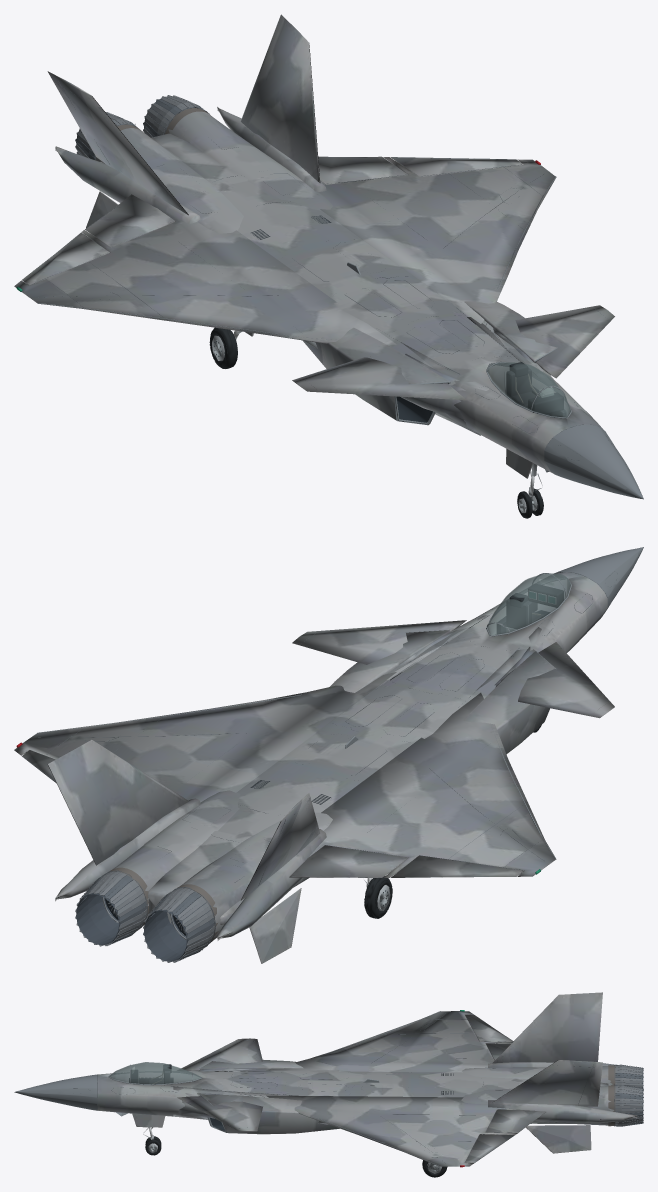
File: j20-preview.glb
3 views of the same model, one above another, from view 1: azimuth 30°, elevation 25°; view 2: azimuth 150°, elevation 25°; view 3: azimuth 270°, elevation 25° (orthographic). The views are drawn at different scales.
Parts seen in each view (by area): view 1: J20 | J20 • Cool gray polygon camouflage | mobile, J20 | J20 • Smoked gold blue canopy | mobile, J20 | J20 • Radome side facet variation | mobile, J20 | J20 • Radar nose dielectric gray | mobile, J20 | J20 • Recessed panel shadow | mobile, J20 | J20 • Edge coating | mobile, J20 | J20 • Titanium nozzle petals | mobile, J20 | J20 • Tire rubber | mobile, J20 | J20 • Cockpit charcoal upholstery | mobile, J20 | J20 • Duct and exhaust interior | mobile, J20 | J20 • Canopy seals | mobile, J20 | J20 • Heat discolored nozzle petals | mobile; view 2: J20 | J20 • Cool gray polygon camouflage | mobile, J20 | J20 • Dark heat treated liner | mobile, J20 | J20 • Titanium nozzle petals | mobile, J20 | J20 • Smoked gold blue canopy | mobile, J20 | J20 • Heat discolored nozzle petals | mobile, J20 | J20 • Recessed panel shadow | mobile, J20 | J20 • Radar nose dielectric gray | mobile, J20 | J20 • Edge coating | mobile, J20 | J20 • Cockpit charcoal upholstery | mobile, J20 | J20 • Radome side facet variation | mobile, J20 | J20 • Tire rubber | mobile, J20 | J20 • Oxidized titanium collar | mobile (+1 smaller); view 3: J20 | J20 • Cool gray polygon camouflage | mobile, J20 | J20 • Smoked gold blue canopy | mobile, J20 | J20 • Titanium nozzle petals | mobile, J20 | J20 • Radome side facet variation | mobile, J20 | J20 • Edge coating | mobile, J20 | J20 • Recessed panel shadow | mobile, J20 | J20 • Radar nose dielectric gray | mobile, J20 | J20 • Heat discolored nozzle petals | mobile, J20 | J20 • Tire rubber | mobile, J20 | J20 • Oxidized titanium collar | mobile.
Part boxes in pixels (x1=…): J20 | J20 • Cool gray polygon camouflage | mobile: x1=14, y1=14, x2=614, y2=478; J20 | J20 • Smoked gold blue canopy | mobile: x1=487, y1=362, x2=570, y2=417; J20 | J20 • Radome side facet variation | mobile: x1=544, y1=427, x2=643, y2=499; J20 | J20 • Radar nose dielectric gray | mobile: x1=400, y1=420, x2=643, y2=498; J20 | J20 • Recessed panel shadow | mobile: x1=24, y1=81, x2=610, y2=471; J20 | J20 • Edge coating | mobile: x1=37, y1=176, x2=571, y2=472; J20 | J20 • Titanium nozzle petals | mobile: x1=75, y1=95, x2=199, y2=158; J20 | J20 • Tire rubber | mobile: x1=209, y1=327, x2=543, y2=518; J20 | J20 • Cockpit charcoal upholstery | mobile: x1=506, y1=368, x2=566, y2=416; J20 | J20 • Duct and exhaust interior | mobile: x1=214, y1=215, x2=549, y2=504; J20 | J20 • Canopy seals | mobile: x1=509, y1=362, x2=563, y2=414; J20 | J20 • Heat discolored nozzle petals | mobile: x1=75, y1=95, x2=209, y2=159; J20 | J20 • Cool gray polygon camouflage | mobile: x1=14, y1=572, x2=614, y2=963; J20 | J20 • Dark heat treated liner | mobile: x1=76, y1=877, x2=212, y2=961; J20 | J20 • Titanium nozzle petals | mobile: x1=75, y1=871, x2=214, y2=962; J20 | J20 • Smoked gold blue canopy | mobile: x1=487, y1=573, x2=570, y2=635; J20 | J20 • Heat discolored nozzle petals | mobile: x1=75, y1=870, x2=215, y2=962; J20 | J20 • Recessed panel shadow | mobile: x1=22, y1=571, x2=617, y2=885; J20 | J20 • Radar nose dielectric gray | mobile: x1=556, y1=547, x2=643, y2=596; J20 | J20 • Edge coating | mobile: x1=37, y1=573, x2=571, y2=858; J20 | J20 • Cockpit charcoal upholstery | mobile: x1=497, y1=599, x2=543, y2=633; J20 | J20 • Radome side facet variation | mobile: x1=555, y1=547, x2=643, y2=618; J20 | J20 • Tire rubber | mobile: x1=364, y1=725, x2=541, y2=918; J20 | J20 • Oxidized titanium collar | mobile: x1=109, y1=867, x2=218, y2=942; J20 | J20 • Cool gray polygon camouflage | mobile: x1=97, y1=992, x2=637, y2=1166; J20 | J20 • Smoked gold blue canopy | mobile: x1=109, y1=1062, x2=201, y2=1084; J20 | J20 • Titanium nozzle petals | mobile: x1=615, y1=1065, x2=643, y2=1126; J20 | J20 • Radome side facet variation | mobile: x1=14, y1=1088, x2=97, y2=1110; J20 | J20 • Edge coating | mobile: x1=108, y1=1011, x2=440, y2=1166; J20 | J20 • Recessed panel shadow | mobile: x1=73, y1=1013, x2=593, y2=1163; J20 | J20 • Radar nose dielectric gray | mobile: x1=15, y1=1074, x2=210, y2=1124; J20 | J20 • Heat discolored nozzle petals | mobile: x1=614, y1=1064, x2=643, y2=1126; J20 | J20 • Tire rubber | mobile: x1=145, y1=1136, x2=447, y2=1177; J20 | J20 • Oxidized titanium collar | mobile: x1=608, y1=1065, x2=615, y2=1126.
Size of the model in its own units: 11.9 by 4.5 by 20.3.
Materials: 24 (1 with a texture image).
